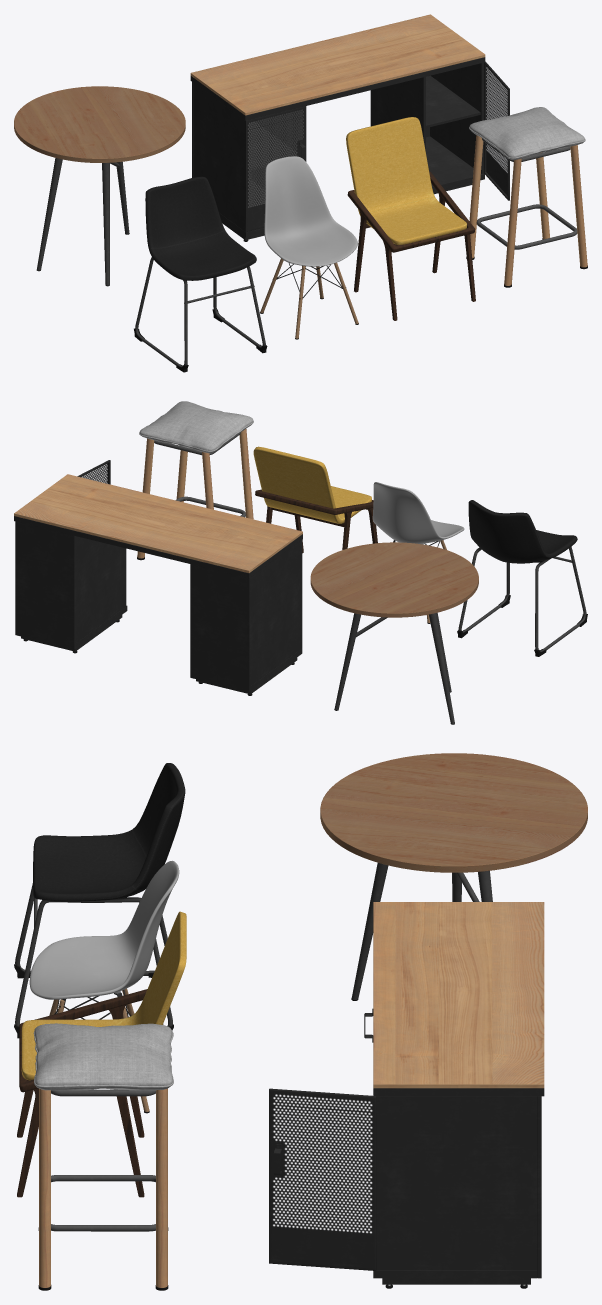
The model's file is furniture_set_s.glb.
3 renders of one model, top to bottom at view 1: azimuth 30°, elevation 25°; view 2: azimuth 150°, elevation 25°; view 3: azimuth 270°, elevation 25°, orthographic. The views are drawn at different scales.
Visible parts, largest first — view 1: table AGAMA, table Crueso, mykonos chair, myrick chair, chair JIMI, boisvert chair, door, door.001; view 2: table AGAMA, table Crueso, chair JIMI, mykonos chair, myrick chair, boisvert chair, door.001; view 3: table AGAMA, table Crueso, door.001, chair JIMI, myrick chair, boisvert chair, mykonos chair.
Boxes of the visible parts, x1,y1,x2,y2 form: table AGAMA: [190, 14, 485, 241]; table Crueso: [14, 86, 185, 286]; mykonos chair: [346, 117, 475, 320]; myrick chair: [134, 176, 267, 372]; chair JIMI: [466, 107, 587, 287]; boisvert chair: [260, 156, 358, 339]; door: [245, 106, 306, 232]; door.001: [484, 61, 509, 200]; table AGAMA: [14, 474, 302, 695]; table Crueso: [310, 542, 478, 724]; chair JIMI: [137, 401, 253, 560]; mykonos chair: [253, 446, 377, 553]; myrick chair: [457, 500, 587, 656]; boisvert chair: [372, 482, 464, 623]; door.001: [77, 460, 110, 484]; table AGAMA: [373, 902, 544, 1288]; table Crueso: [320, 753, 587, 1000]; door.001: [269, 1088, 376, 1270]; chair JIMI: [33, 1023, 173, 1290]; myrick chair: [14, 763, 185, 1038]; boisvert chair: [29, 860, 179, 1113]; mykonos chair: [17, 911, 186, 1197].
Bounding box in the file's own units: 23.67 × 7.79 × 17.36.
Materials: 6 (6 with a texture image).
